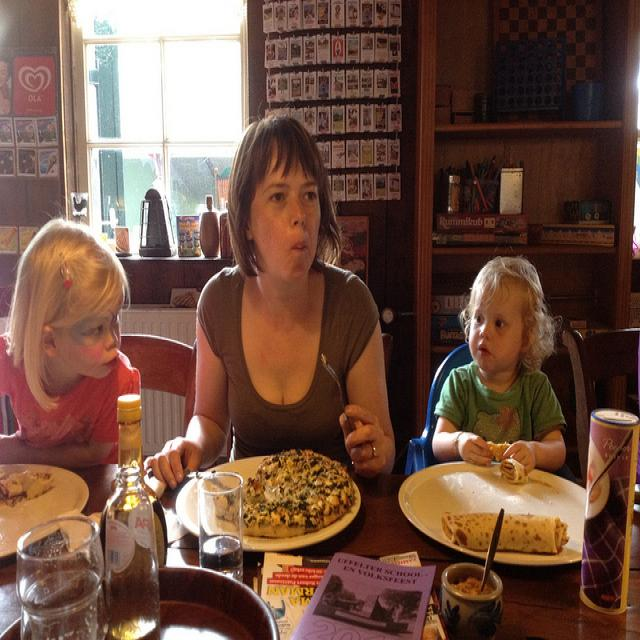chair: (406, 342, 475, 475), (120, 336, 199, 452), (586, 327, 640, 423), (561, 329, 590, 489), (383, 334, 394, 388)
dining table: (0, 398, 640, 632)
